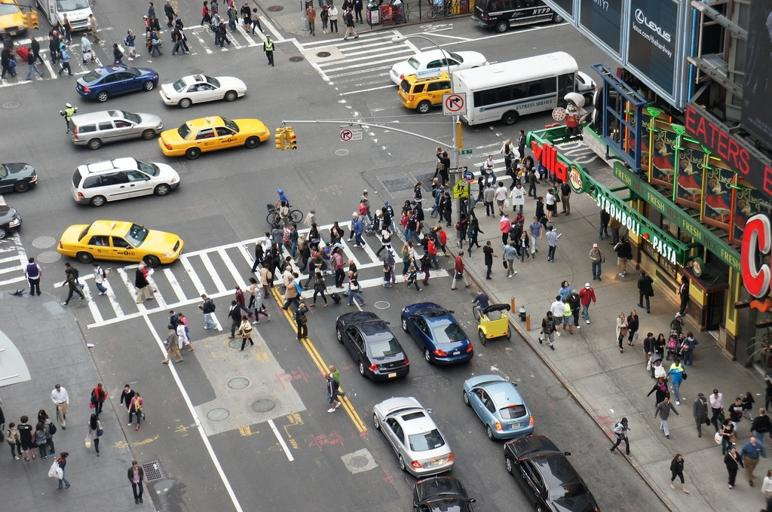non-vehicle: (266, 204, 303, 226), (425, 0, 453, 19)
